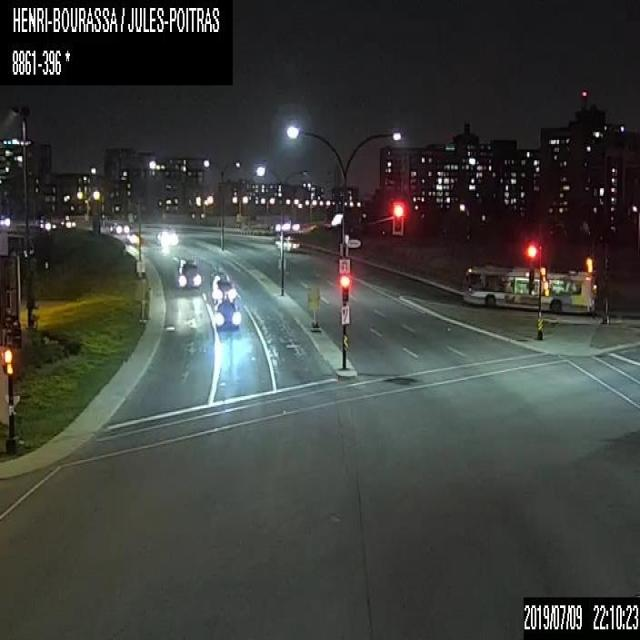bus: (464, 264, 594, 312)
vehicle: (213, 298, 240, 330), (177, 258, 201, 288), (211, 274, 237, 301), (156, 230, 178, 245), (275, 236, 299, 249), (108, 220, 130, 234), (35, 214, 55, 229), (59, 214, 75, 228), (539, 308, 540, 309)
